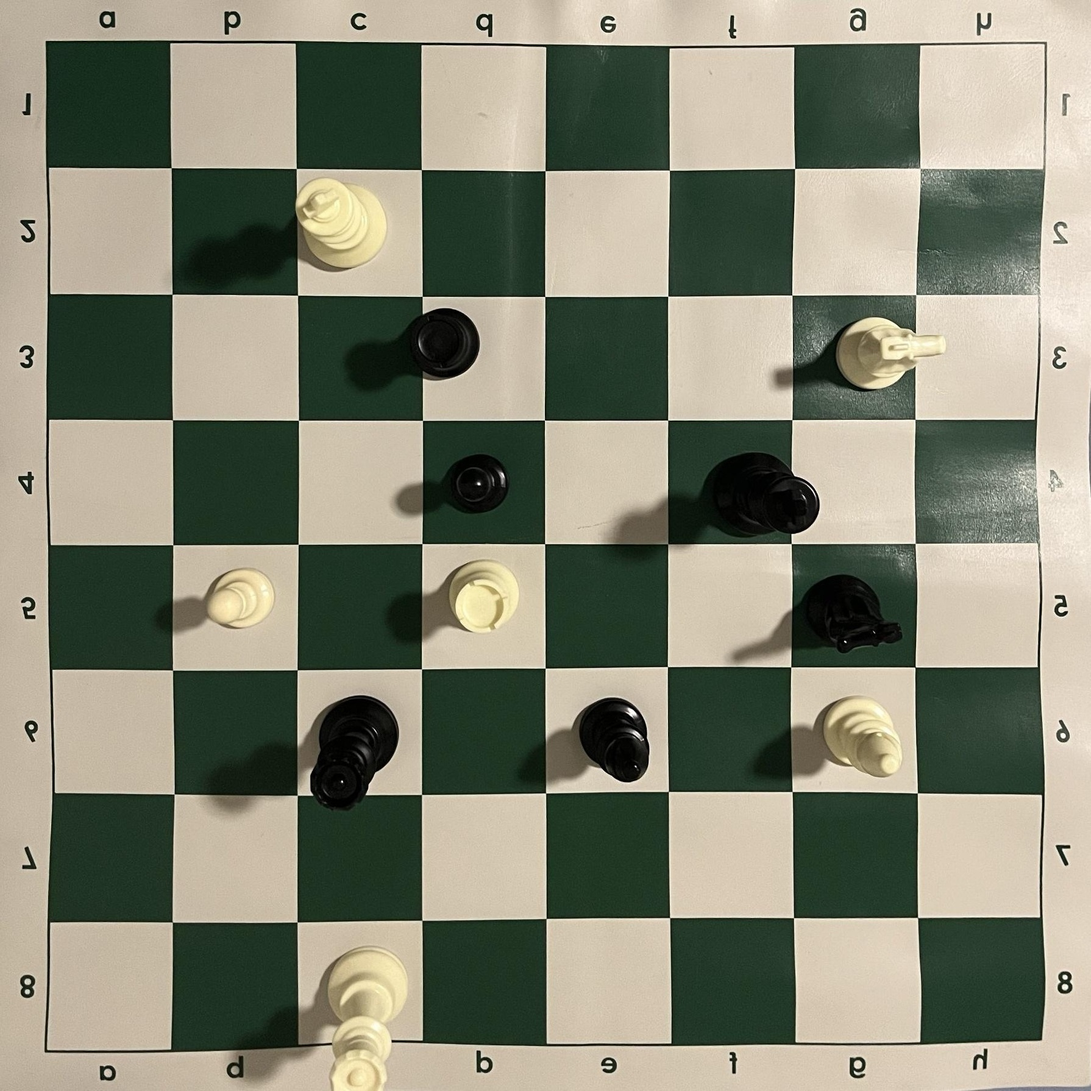black_bishop: (579, 697, 650, 784)
black_king: (709, 452, 822, 537)
black_knight: (799, 573, 903, 653)
black_pawn: (442, 454, 510, 514)
black_queen: (308, 694, 400, 812)
black_rook: (406, 308, 480, 382)
white_bishop: (821, 695, 904, 780)
white_king: (295, 177, 388, 269)
white_knight: (835, 316, 948, 392)
white_pawn: (205, 567, 275, 630)
white_queen: (325, 945, 411, 1090)
white_rook: (447, 558, 519, 635)
